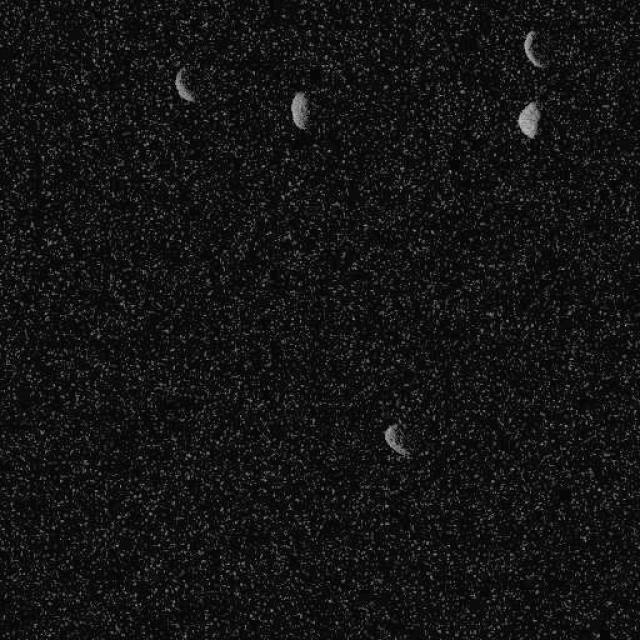D2: (382, 421, 412, 459), (516, 100, 542, 139), (522, 29, 546, 69), (289, 90, 311, 130), (174, 66, 196, 102)
